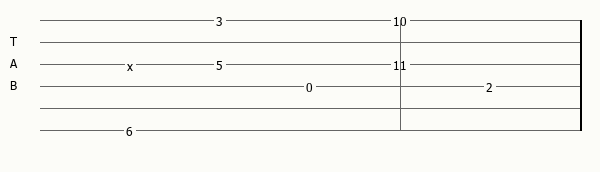0: (306, 80, 317, 93)
10: (393, 14, 411, 27)
11: (393, 58, 411, 71)
2: (486, 80, 497, 93)
3: (216, 14, 227, 27)
5: (216, 58, 227, 71)
6: (126, 124, 137, 137)
x: (127, 59, 137, 70)
